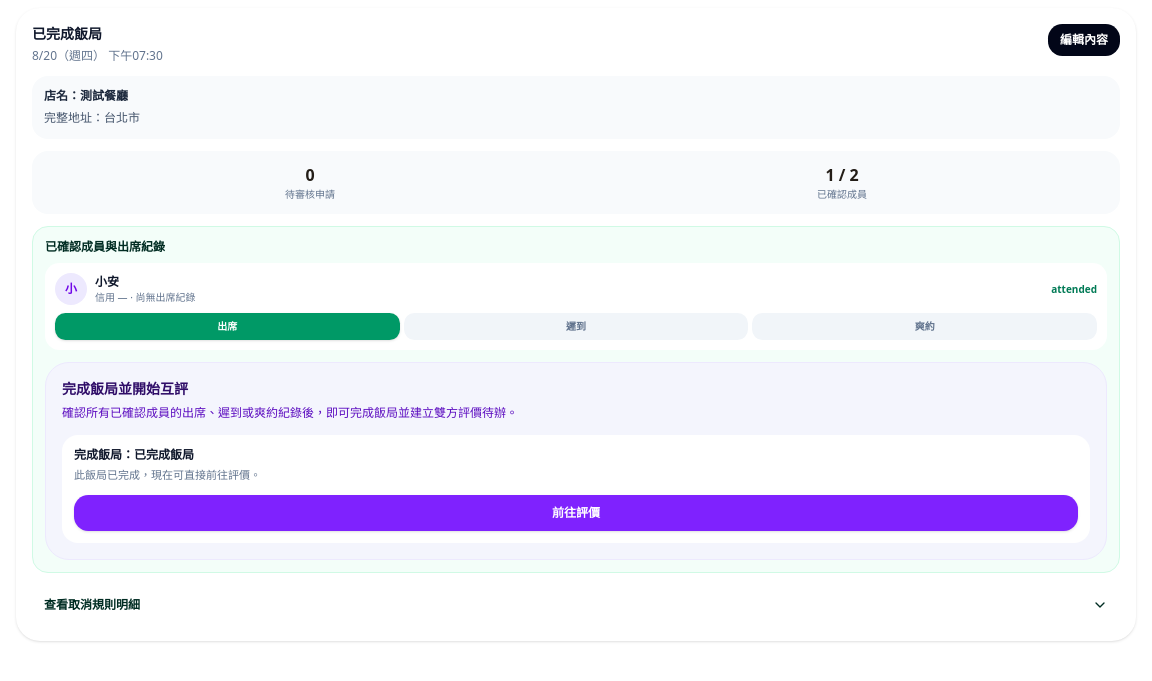
Scenario: MyEventsManagement 進階飯局管理 › 已完成且已有出席紀錄的主辦飯局仍會顯示前往評價入口
(page scrolled)
Expected: the text "此飯局已完成，現在可直接前往評價。" is shown, [74,467,261,482]
Click the button "前往評價" at (576, 513), box [74,495,1078,531]
(page scrolled)
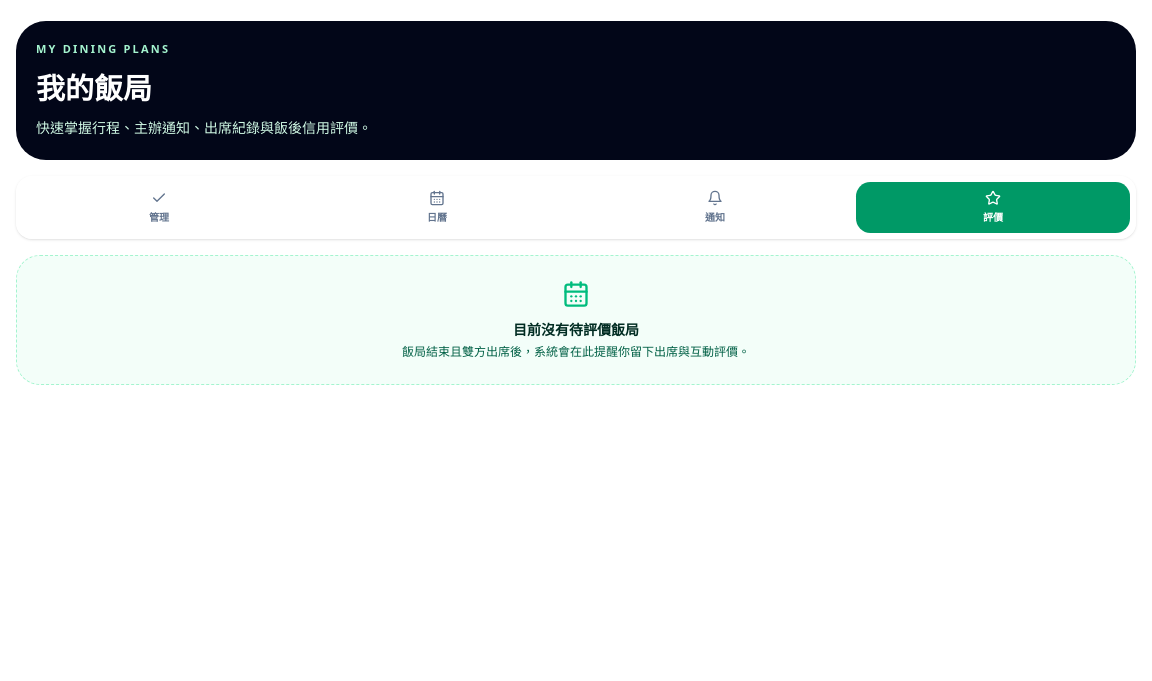
Now the text "目前沒有待評價飯局" is shown, box [513,320,639,339]
